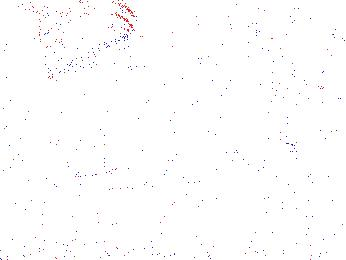moon jellyfish: (146, 1, 234, 86), (255, 1, 343, 74), (39, 1, 110, 83), (265, 83, 338, 154), (55, 1, 137, 54), (129, 3, 173, 73)
